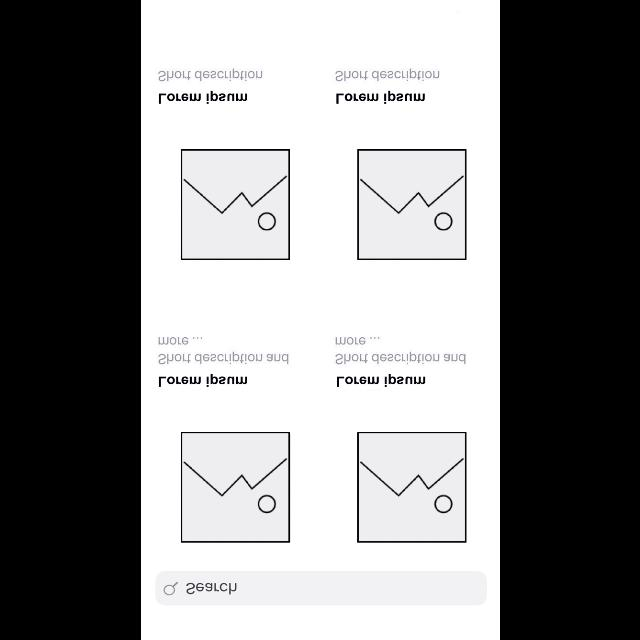icon: (162, 581, 178, 595)
image: (357, 431, 468, 543), (180, 148, 290, 260), (357, 148, 467, 260), (180, 432, 290, 542)
input: (155, 570, 487, 606)
text: (158, 336, 288, 364), (335, 336, 465, 364), (334, 68, 440, 82), (158, 68, 262, 82), (158, 373, 248, 387), (336, 373, 426, 387), (335, 90, 425, 104), (158, 90, 248, 104), (186, 582, 237, 594)
